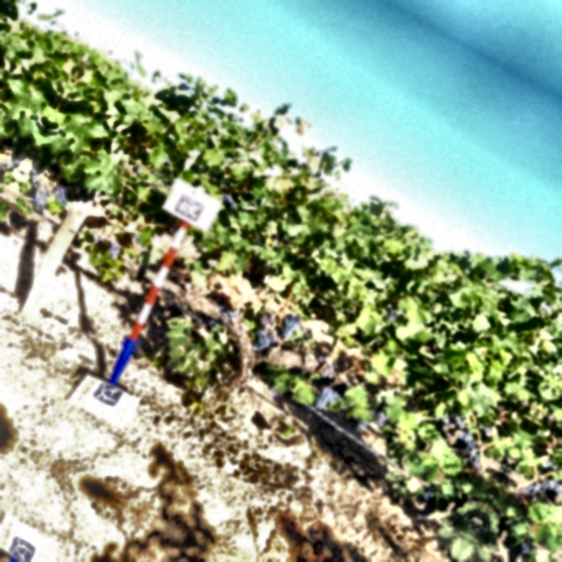QR: (172, 193, 206, 224), (93, 379, 124, 408)
